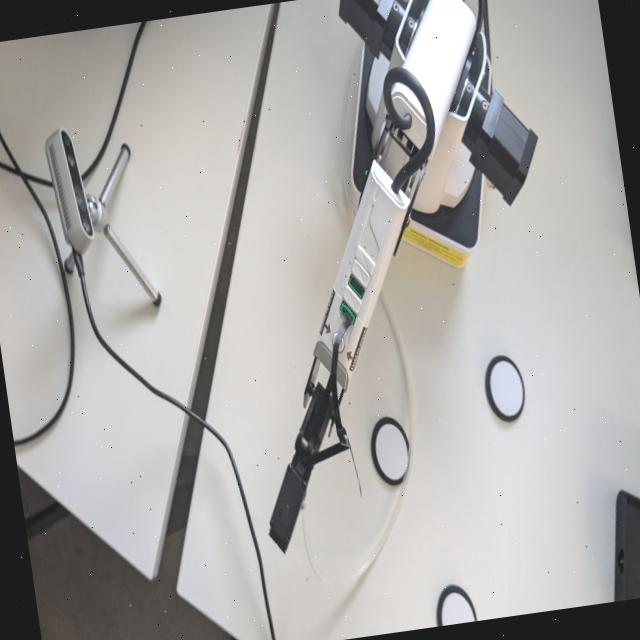Robot-end-effector-HF8z: (256, 452, 321, 560)
